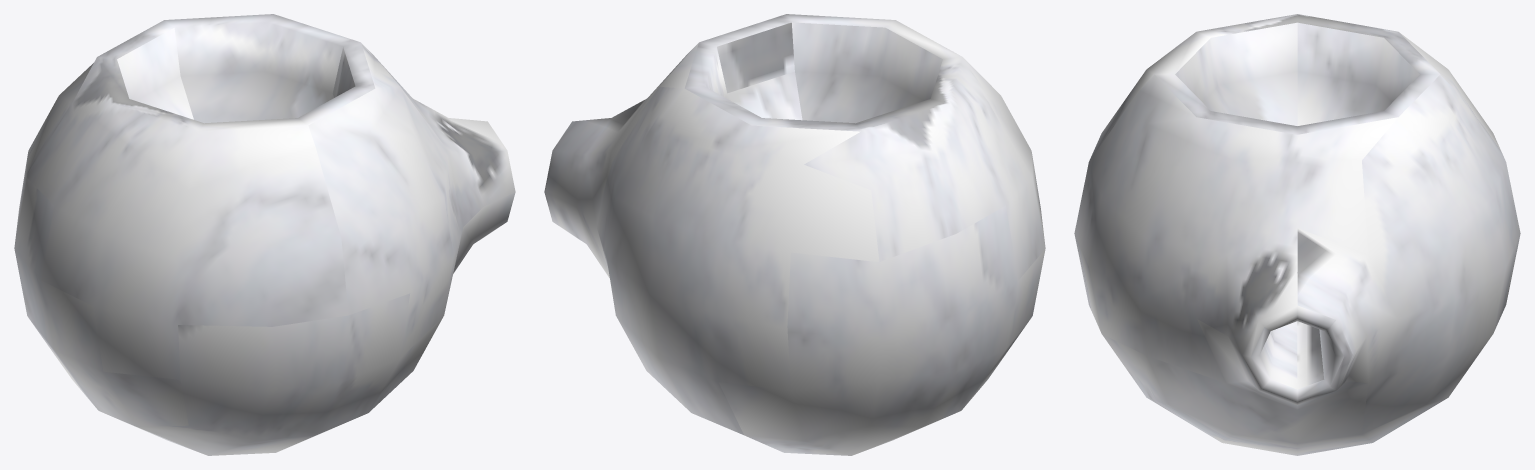
Rendered from TurretDynamic_Sphere.fbx.
The picture shows the model from 3 angles, left to right: view 1: azimuth 30°, elevation 25°; view 2: azimuth 150°, elevation 25°; view 3: azimuth 270°, elevation 25°; orthographic projection.
Visible parts, largest first — view 1: TurretDynamic_Sphere; view 2: TurretDynamic_Sphere; view 3: TurretDynamic_Sphere.
Part boxes in pixels (x1=…): TurretDynamic_Sphere: x1=14, y1=14, x2=515, y2=455; TurretDynamic_Sphere: x1=544, y1=14, x2=1045, y2=455; TurretDynamic_Sphere: x1=1074, y1=14, x2=1520, y2=455.
Bounding box in the file's own units: 46.16 × 35.74 × 40.
